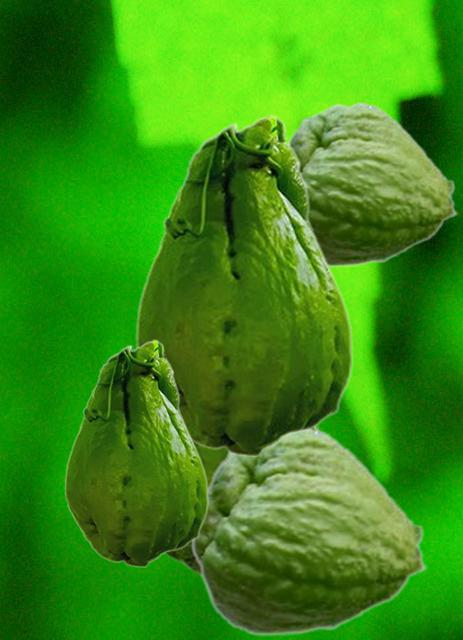sayote: (135, 114, 353, 457), (190, 426, 428, 636), (64, 339, 208, 567), (289, 101, 458, 267), (163, 425, 324, 578)
